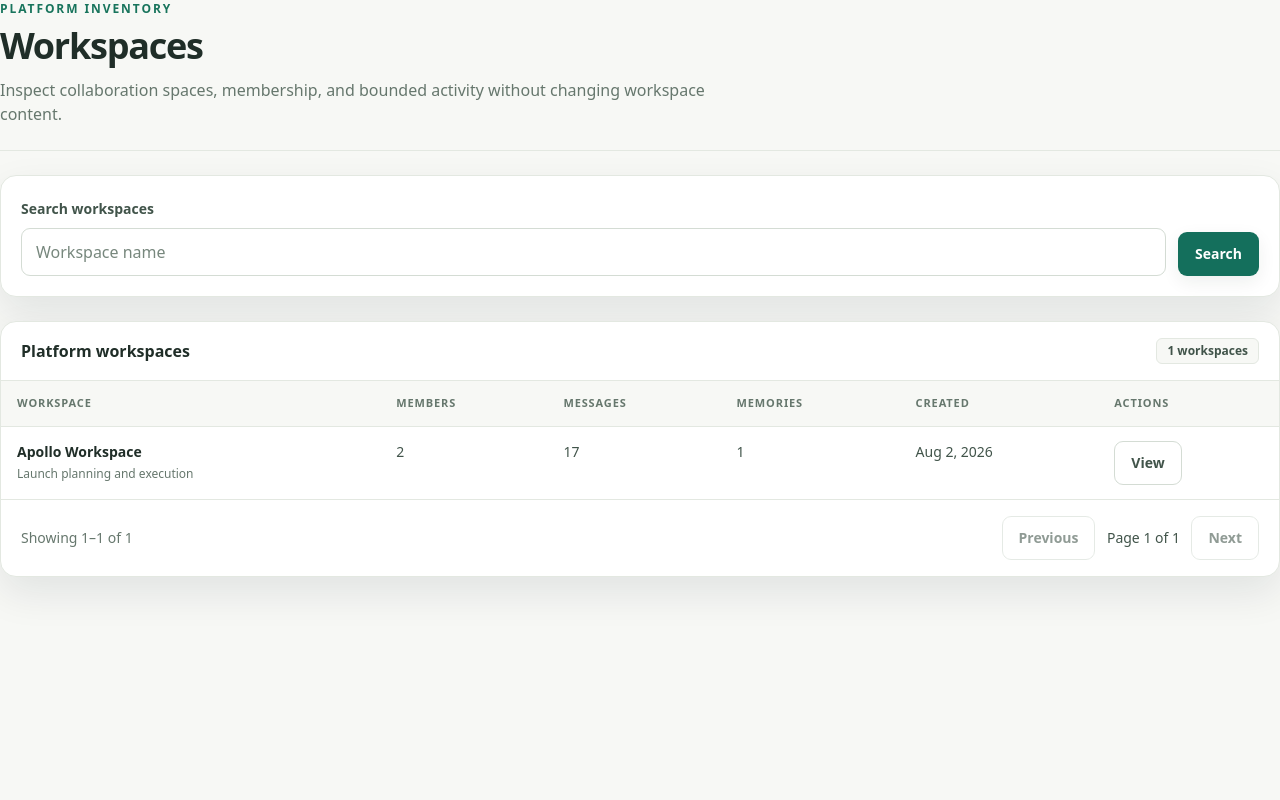
Test: admin workspaces › renders workspace counts and bounded workspace details
Expected: the text "Launch planning and execution" is shown, [17,464,194,482]
Click the button with aria-label "View Apollo Workspace" at (1148, 462), box [1114,440,1182,484]
(page scrolled)
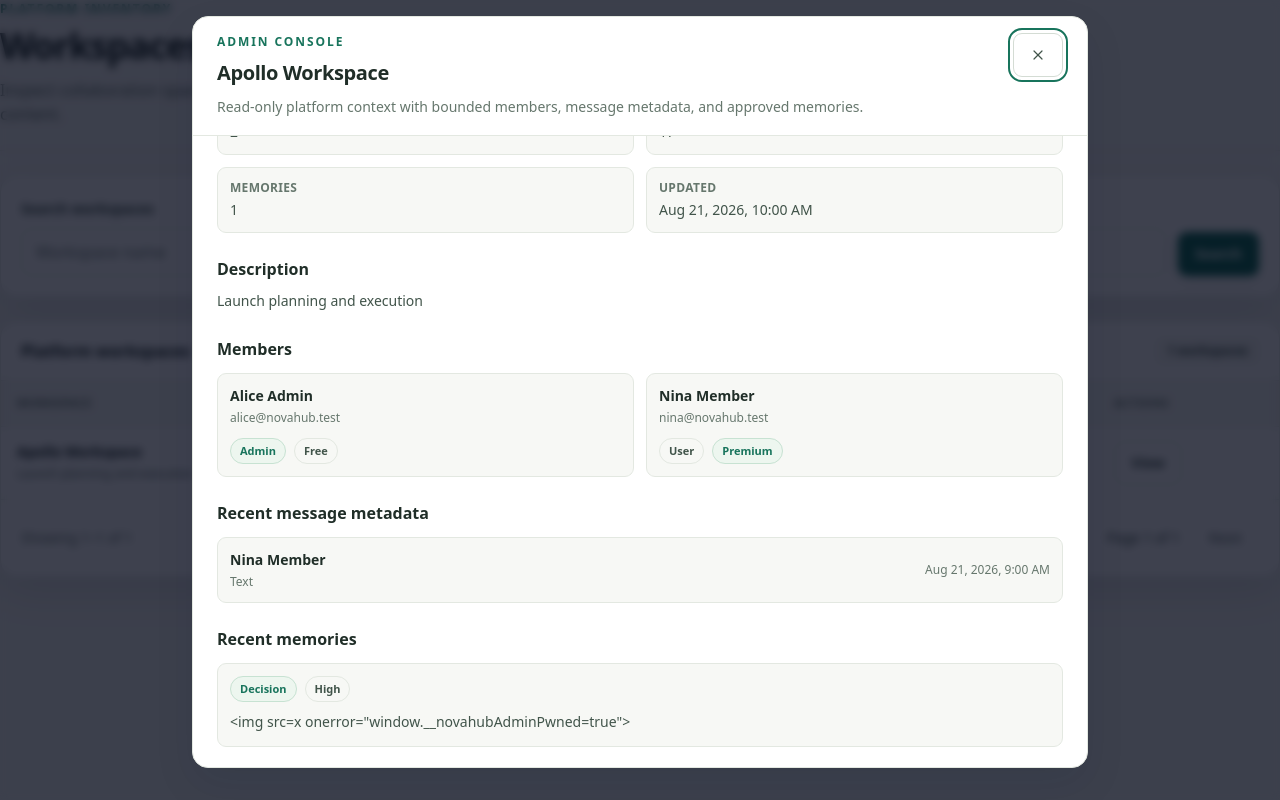
Expected: the text "Nina Member" in the row of "Alice Admin" is shown, [659,386,755,405]
Expected: the heading "Recent message metadata" is shown, [217,502,429,524]
Expected: the text "<img src=x onerror=\"window.__novahubAdminPwned=true\">" is shown, [230,712,630,731]
